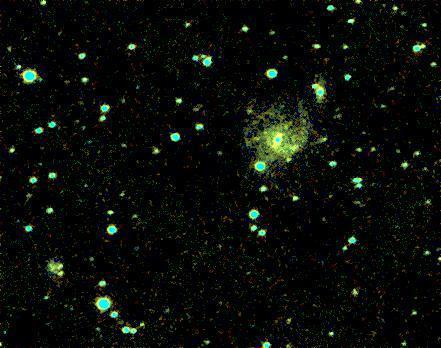star: (290, 105, 320, 135)
